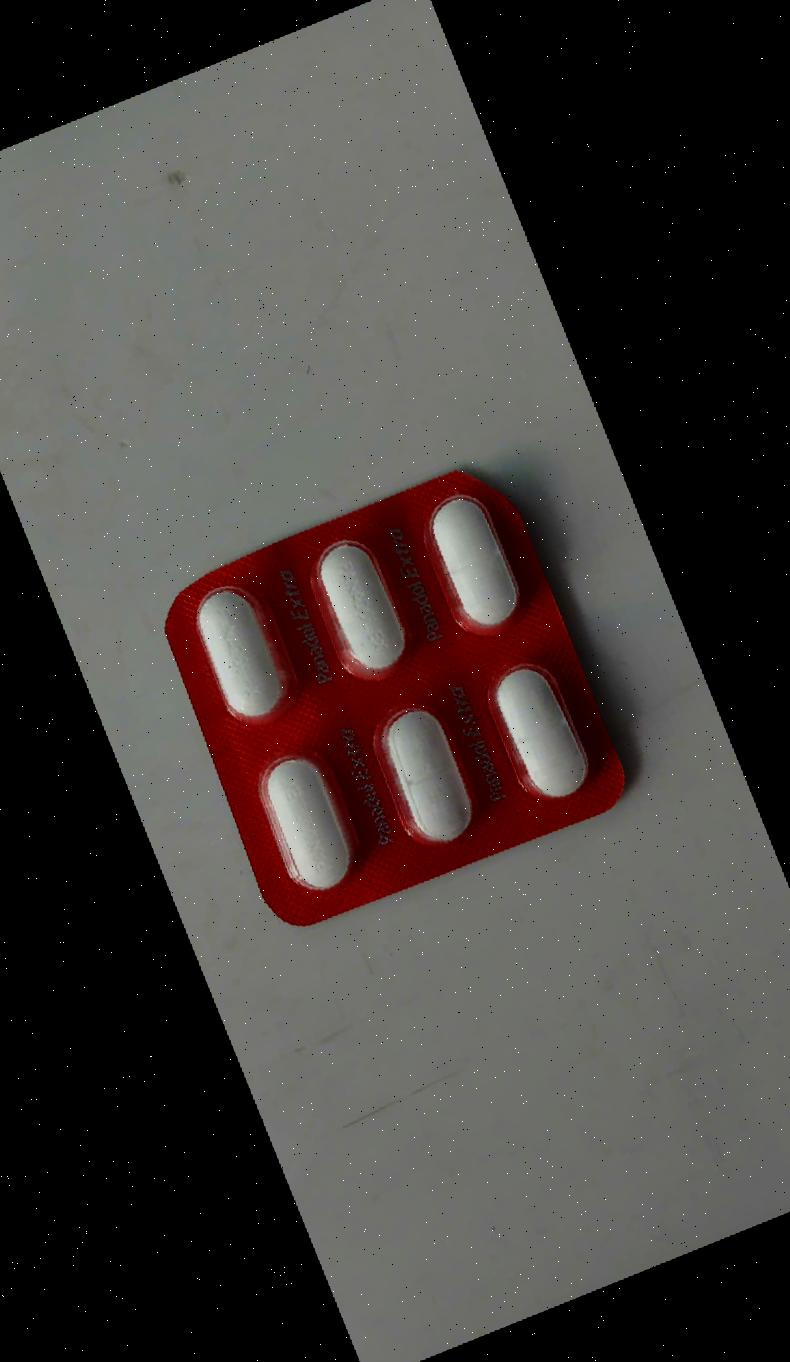Full: (178, 566, 311, 738), (293, 523, 426, 695), (363, 687, 496, 859), (474, 644, 607, 816), (242, 736, 375, 907), (411, 471, 544, 642)
